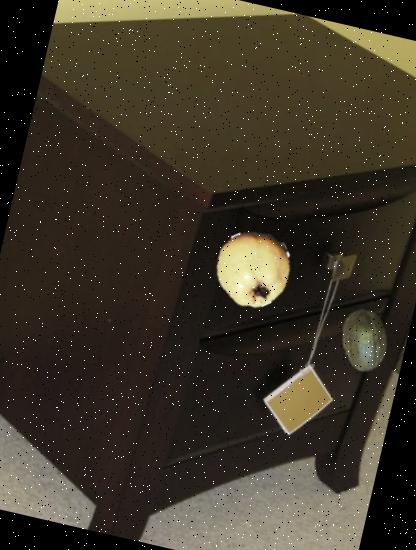Melon: (327, 301, 404, 378)
Quince: (207, 222, 299, 314)
